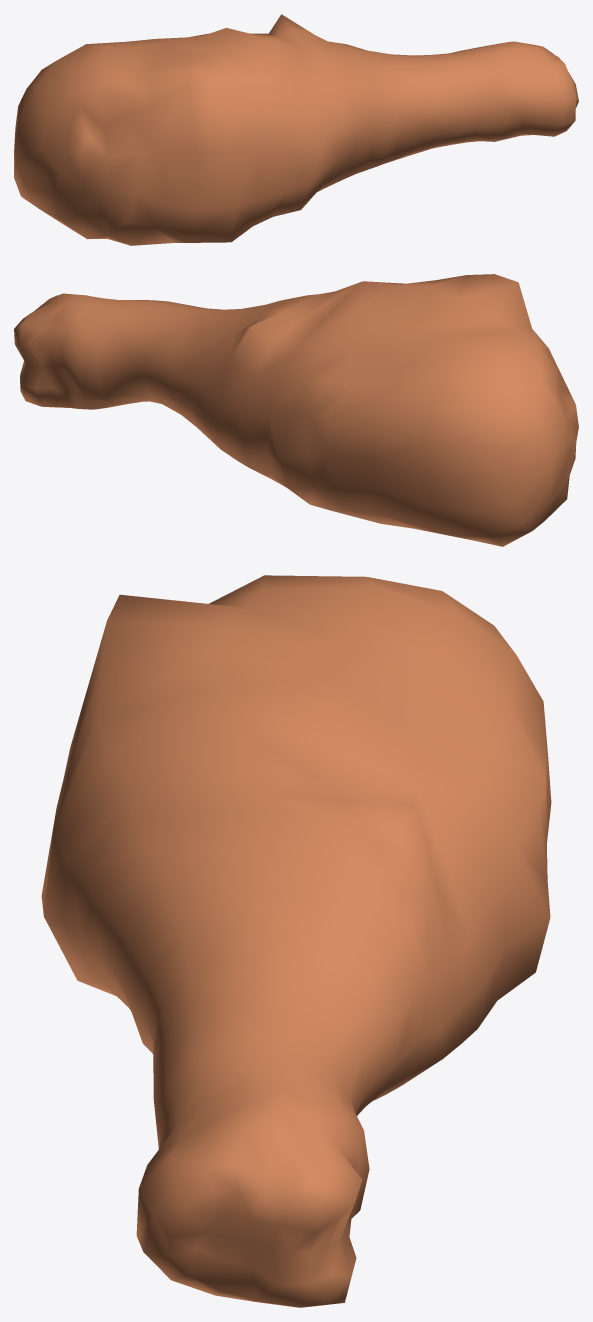
The model's file is leg.FBX.
3 views of the same model, one above another, from view 1: azimuth 30°, elevation 25°; view 2: azimuth 150°, elevation 25°; view 3: azimuth 270°, elevation 25° (orthographic). The views are drawn at different scales.
Parts seen in each view (by area): view 1: leg; view 2: leg; view 3: leg.
Boxes of the visible parts, left/top/right/bottom form: leg: left=14, top=14, right=578, bottom=245; leg: left=14, top=274, right=578, bottom=546; leg: left=41, top=575, right=551, bottom=1307.
Bounding box in the file's own units: 131 × 43.16 × 56.51.
